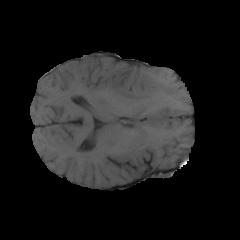glioma: (105, 66, 162, 108)
